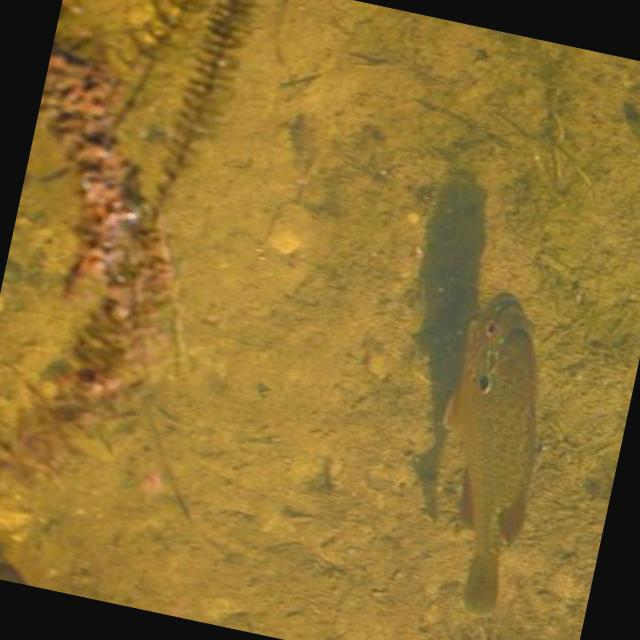Gunes Levregi: (376, 268, 583, 626)
